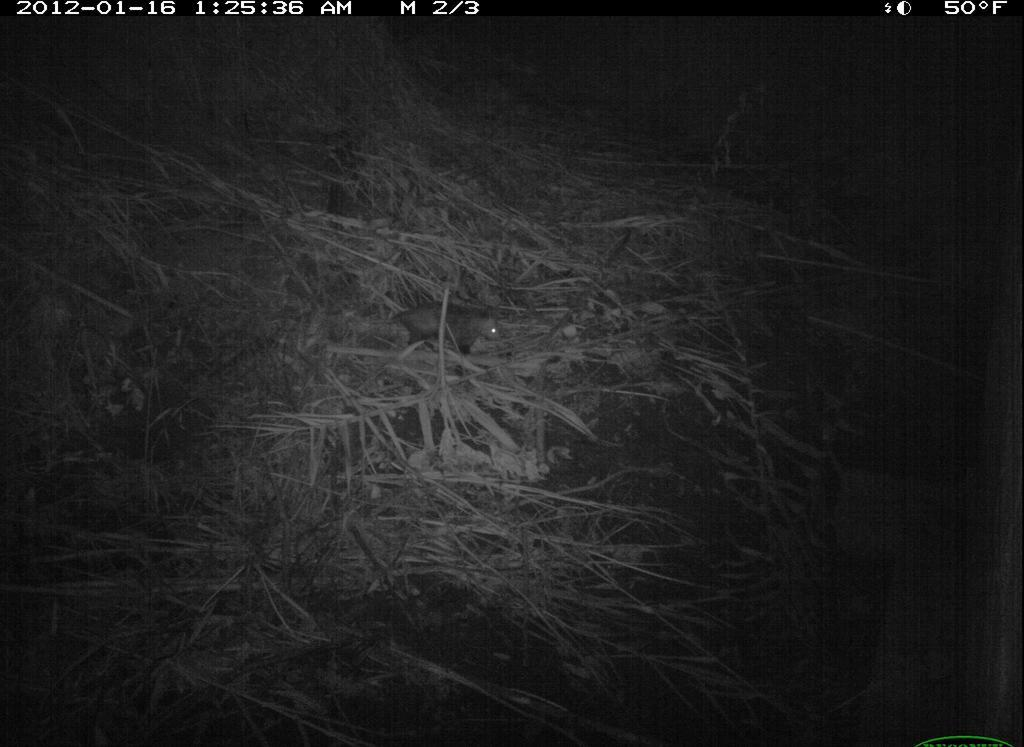opossum: (365, 299, 516, 368)
